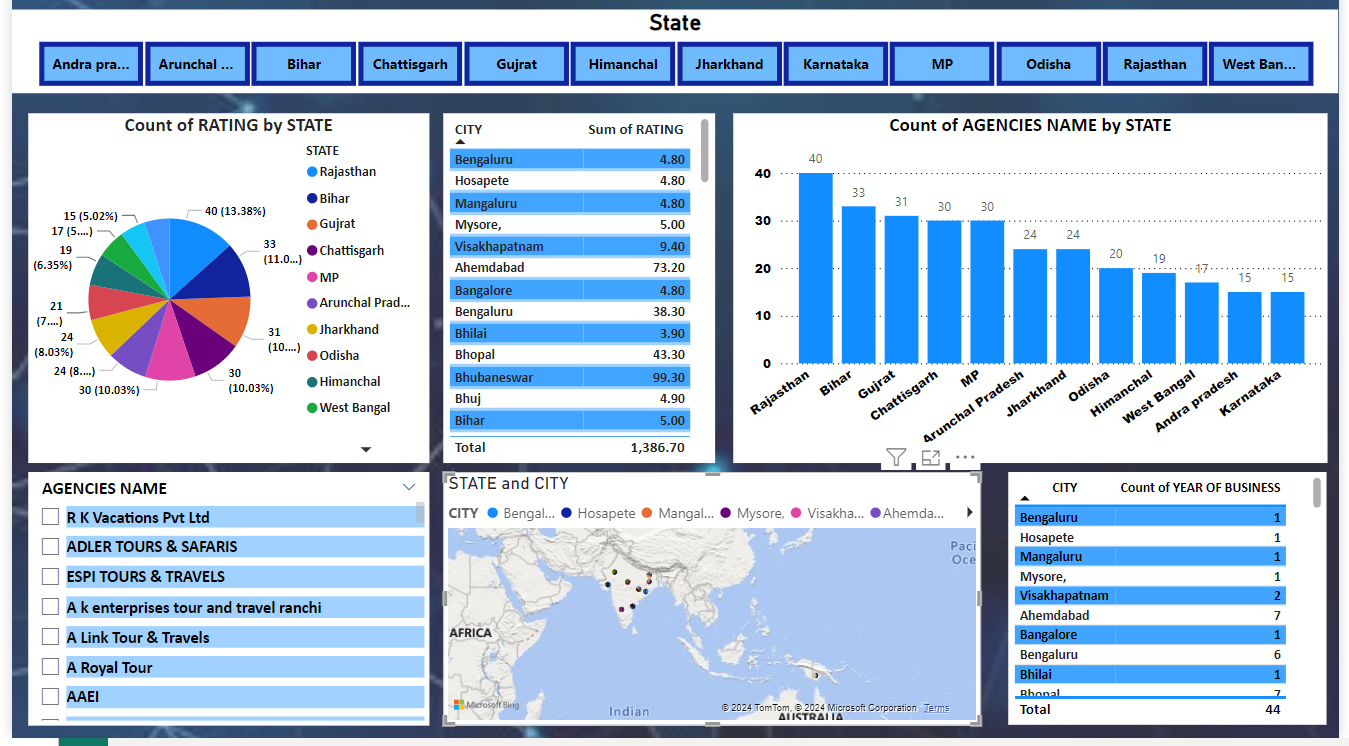

The dashboard page shown, as its layout file describes it:
{"tool":"powerbi","page":{"name":"Page 1","canvas":[1280,720],"ordinal":0},"visuals":[{"type":"pieChart","fields":{"Category":["Sheet1.STATE"],"Y":["CountNonNull(Sheet1.RATING)"]},"box":[15.1,116.6,387,337.6],"z":0},{"type":"tableEx","fields":{"Values":["Sheet1.CITY","Avg(Sheet1.RATING)","Sheet1.YEAR OF BUSINESS"]},"box":[415.8,116.6,345.8,591.4],"z":1000},{"type":"slicer","title":"State","fields":{"Values":["Sheet1.STATE"]},"box":[0,16.5,1280.3,81],"z":2000},{"type":"columnChart","fields":{"Category":["Sheet1.STATE"],"Y":["Count(Sheet1.NAME)"]},"box":[772.6,116.6,496.7,337.6],"z":4000},{"type":"slicer","fields":{"Values":["Sheet1.AGENCIES NAME"]},"box":[15.7,463.3,387.3,244.9],"z":5000},{"type":"map","fields":{"Category":["Sheet1.STATE"],"Series":["Sheet1.CITY"]},"box":[772.6,463.8,496.7,244.3],"z":6000}]}

Visuals, with their boxes in screenshot pixels (x1, y1, x2, y2), scaled from the page's 1280x720 canvas onto the 1349x746 screenshot:
pieChart - Sheet1.STATE x CountNonNull(Sheet1.RATING): BBox(16, 121, 424, 471)
tableEx - Sheet1.CITY x Avg(Sheet1.RATING): BBox(438, 121, 803, 734)
"State" slicer: BBox(0, 17, 1348, 101)
columnChart - Sheet1.STATE x Count(Sheet1.NAME): BBox(814, 121, 1338, 471)
slicer - Sheet1.AGENCIES NAME: BBox(17, 480, 425, 734)
map - Sheet1.STATE x Sheet1.CITY: BBox(814, 481, 1338, 734)
